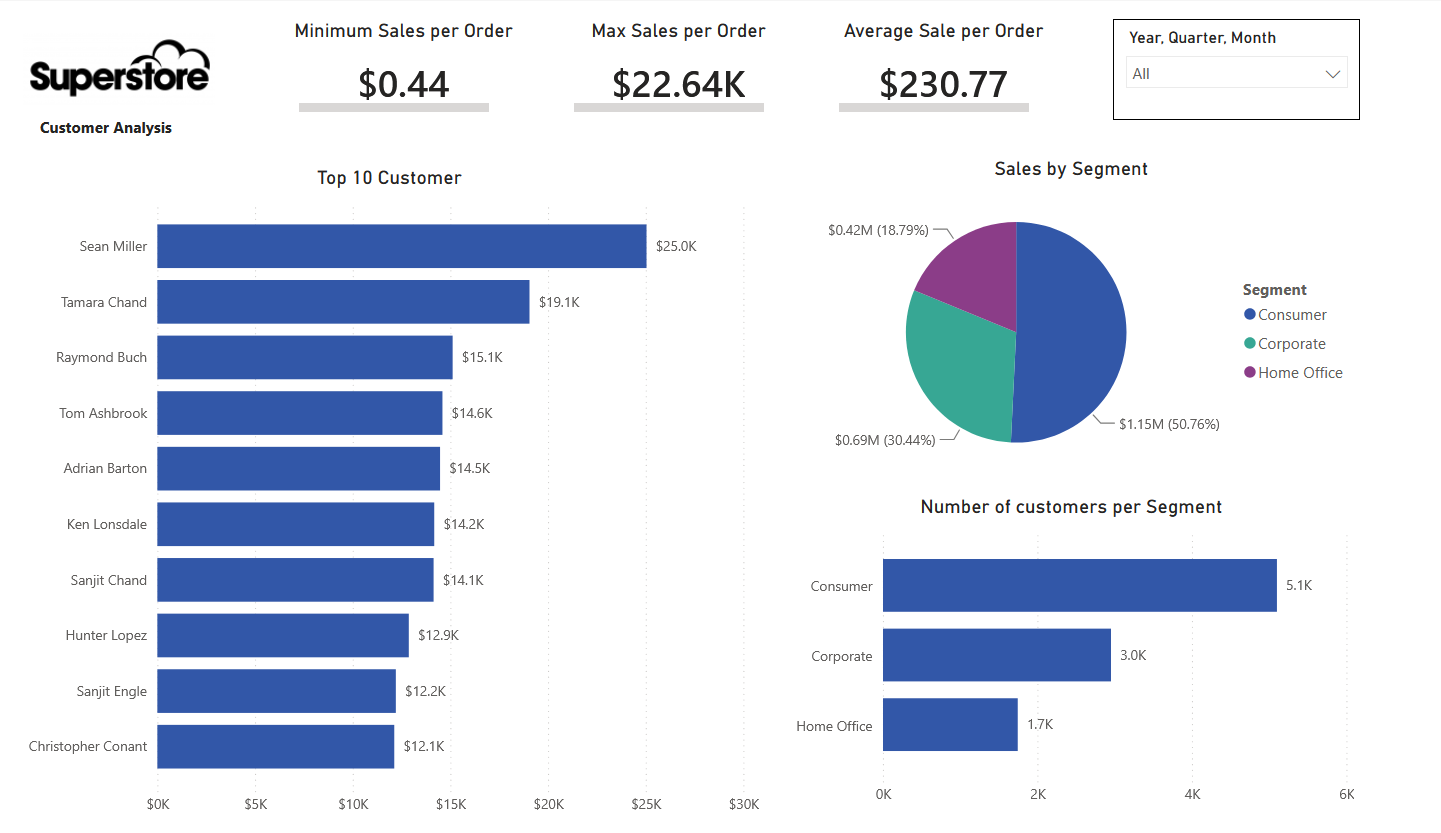

This screenshot's page, from the dashboard's own definition file:
{"tool":"powerbi","page":{"name":"Customer Analysis","canvas":[1280,720],"ordinal":1},"visuals":[{"type":"image","box":[24,16,168,88],"z":0},{"type":"barChart","title":"Top 10 Customer","fields":{"Category":["Super Store Dataset.Customer Name"],"Y":["Sum(Super Store Dataset.Sales)"]},"box":[16,144,656,576],"z":1000},{"type":"pieChart","title":"Sales by Segment","fields":{"Category":["Super Store Dataset.Segment"],"Y":["Sum(Super Store Dataset.Sales)"]},"box":[688,136,504,288],"z":2000},{"type":"barChart","title":"Number of customers per Segment","fields":{"Category":["Super Store Dataset.Segment"],"Y":["CountNonNull(Super Store Dataset.Customer Name)"]},"box":[688,432,504,280],"z":3000},{"type":"cardVisual","title":"Average Sale per Order","fields":{"Data":["Avg(Super Store Dataset.Sales)"]},"box":[720,16,216,88],"z":4000},{"type":"cardVisual","title":"Max Sales per Order","fields":{"Data":["Max(Super Store Dataset.Sales)"]},"box":[488,16,216,88],"z":5000},{"type":"cardVisual","title":"Minimum Sales per Order","fields":{"Data":["Min(Super Store Dataset.Sales)"]},"box":[248,16,216,88],"z":6000},{"type":"slicer","title":"Filter by","fields":{"Values":["Super Store Dataset.Order Date Hierarchy.Year","Super Store Dataset.Order Date Hierarchy.Quarter","Super Store Dataset.Order Date Hierarchy.Month"]},"box":[976,16,216,88],"z":7000},{"type":"textbox","box":[0,96,192,32],"z":8000}]}

Visuals, with their boxes in screenshot pixels (x1, y1, x2, y2), scaled from the page's 1280x720 canvas onto the 1441x833 screenshot:
image: (27, 19, 216, 120)
"Top 10 Customer" barChart: (18, 167, 757, 832)
"Sales by Segment" pieChart: (775, 157, 1342, 491)
"Number of customers per Segment" barChart: (775, 500, 1342, 824)
"Average Sale per Order" cardVisual: (811, 19, 1054, 120)
"Max Sales per Order" cardVisual: (549, 19, 793, 120)
"Minimum Sales per Order" cardVisual: (279, 19, 522, 120)
"Filter by" slicer: (1099, 19, 1342, 120)
textbox: (0, 111, 216, 148)
